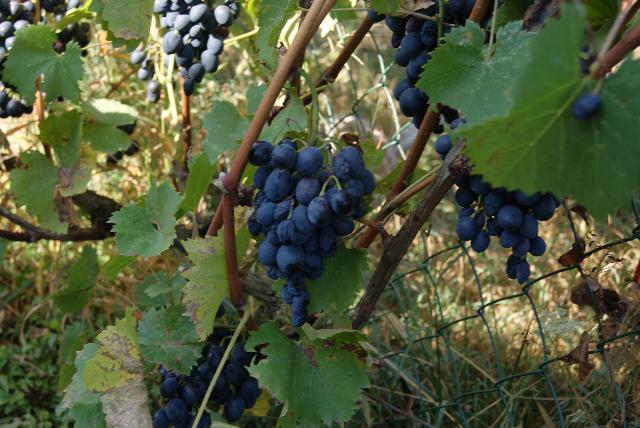grapes: (248, 139, 375, 328), (152, 322, 261, 428), (154, 0, 240, 95)
